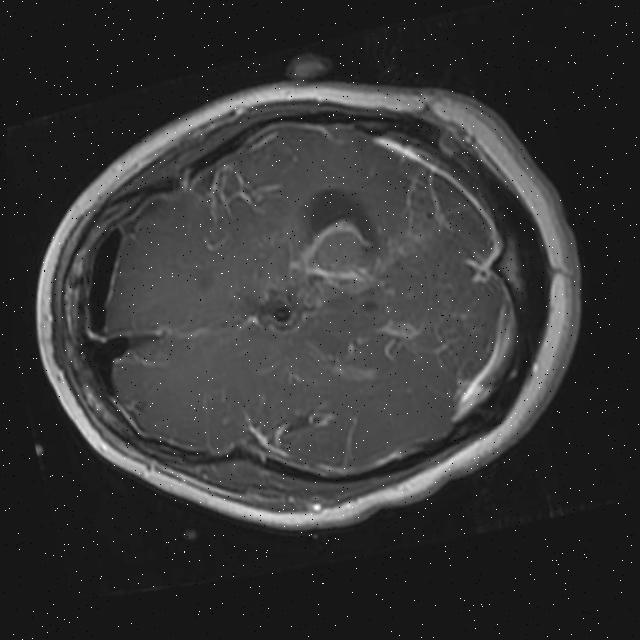Glioma: (304, 222, 373, 281)
